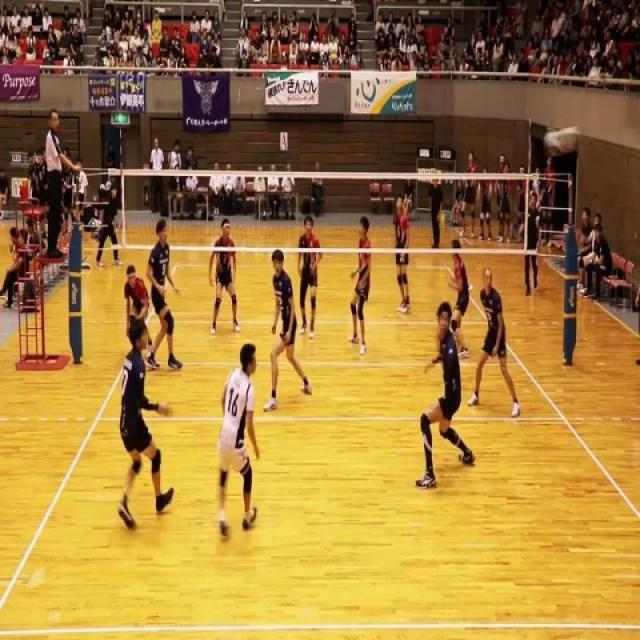volleyball: (544, 124, 580, 158)
